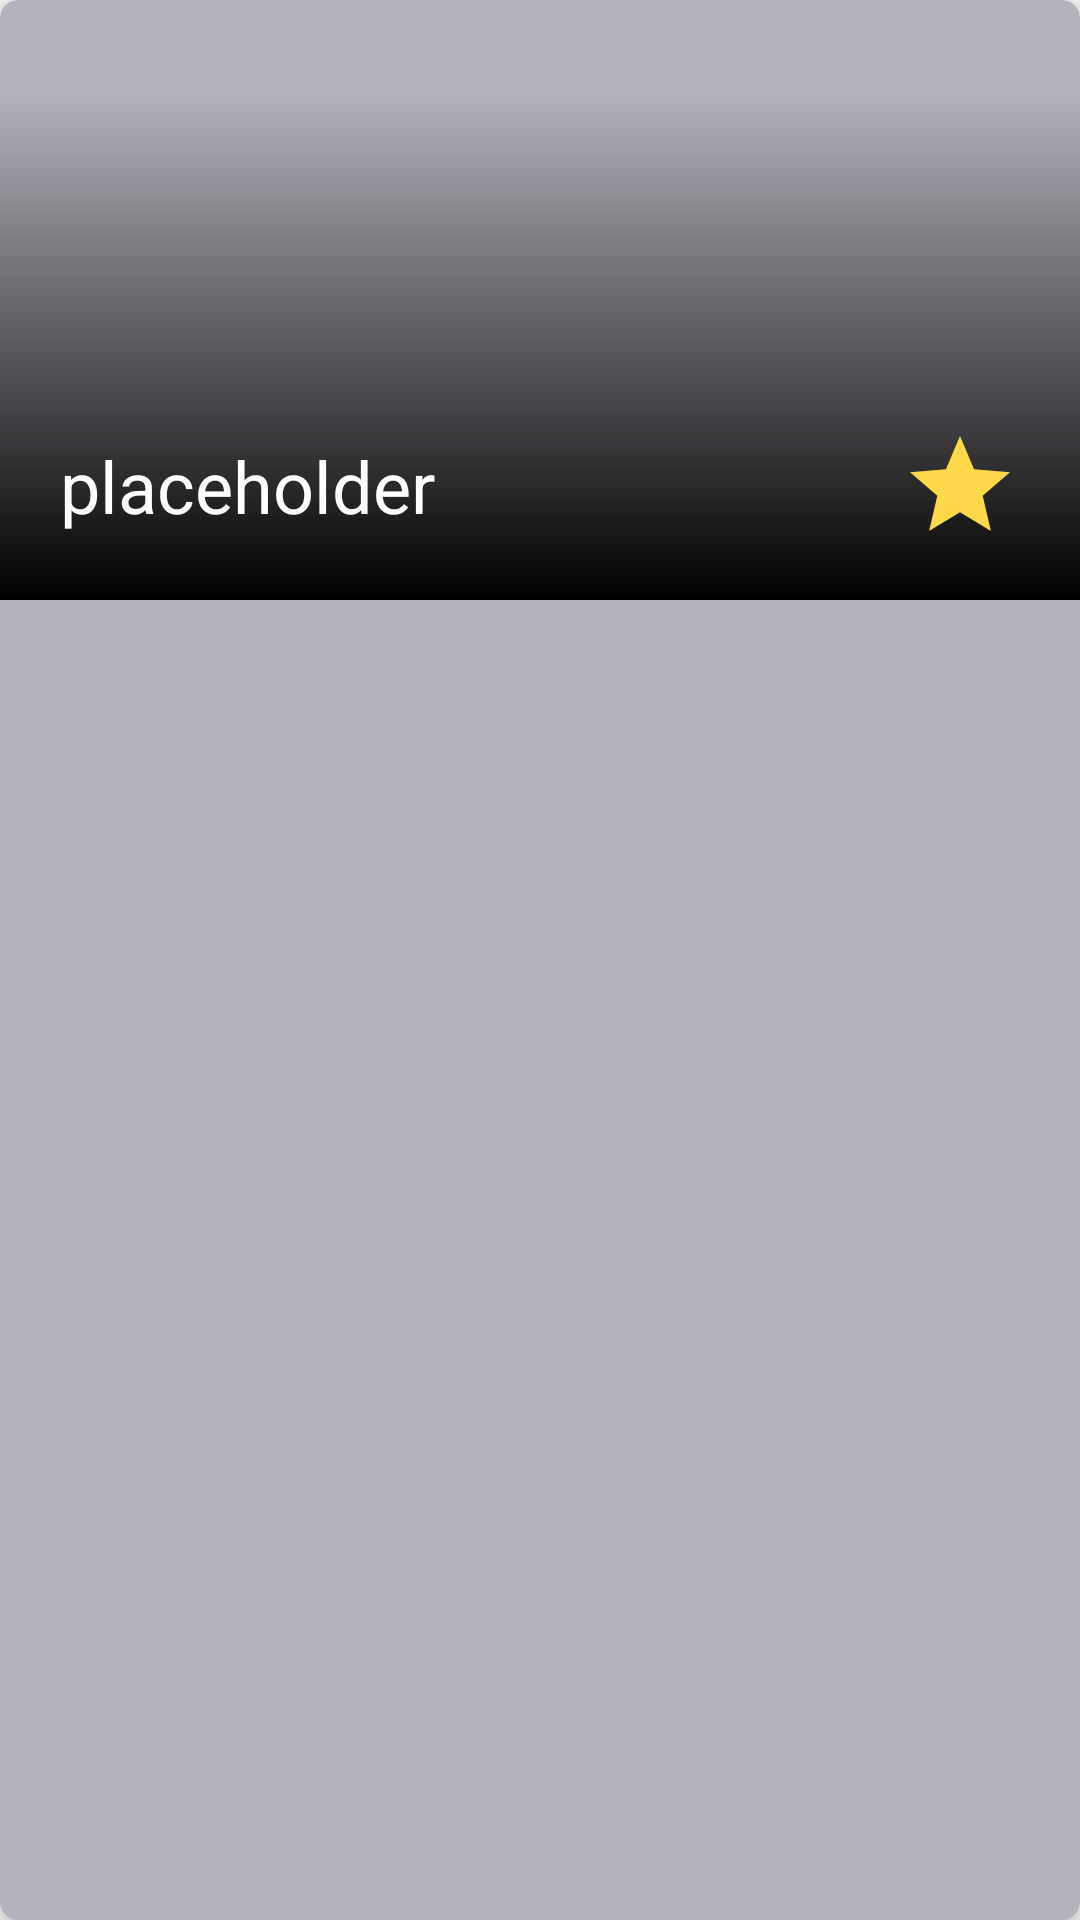

Icon click points for this 1080*1920 phone screenshot, format [x,y]:
star: [960,486]
